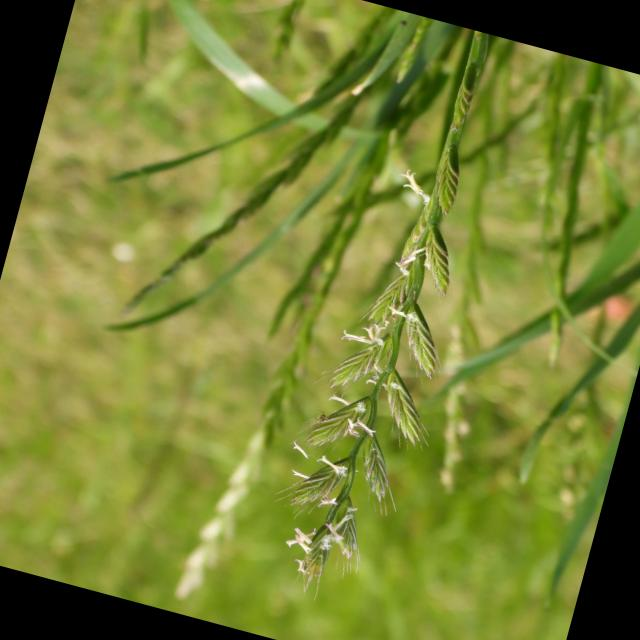Lolium: (248, 13, 537, 620), (380, 106, 556, 492), (536, 362, 616, 511)
